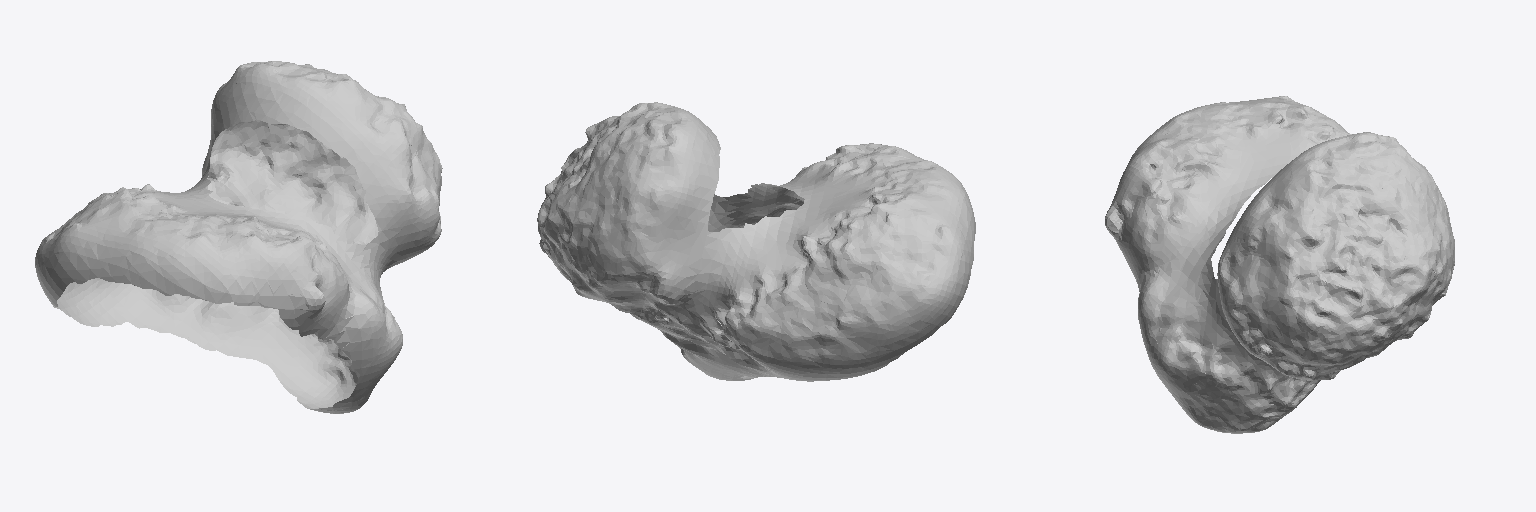
File: UHMesh66-7.obj
3 views of the same model, side by side, from view 1: azimuth 30°, elevation 25°; view 2: azimuth 150°, elevation 25°; view 3: azimuth 270°, elevation 25° (orthographic).
Bounding box in the file's own units: 0.1187 × 0.0836 × 0.0899.